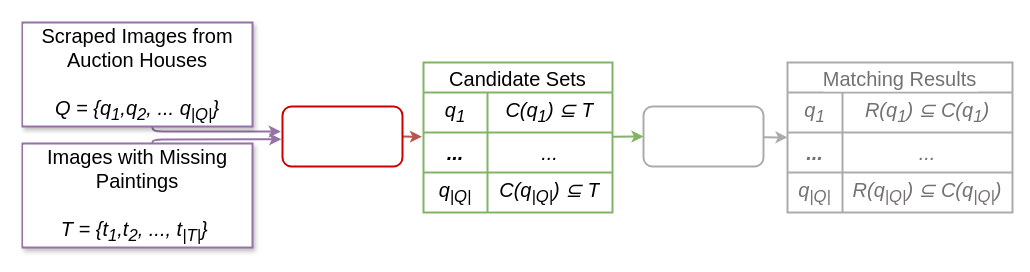
Some shapes in this 1030 by 272 pixel diagram are drawn without their labels. The centre of each missing label's shape, as x and y in pixels:
"Blocking" belongs at pixel 342 136.
"Matching" belongs at pixel 703 136.
